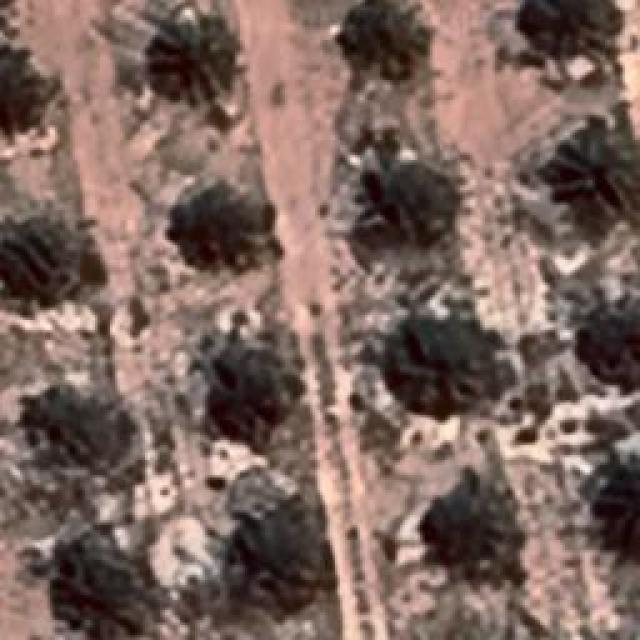PalmTree: (237, 504, 325, 612), (430, 479, 515, 589), (144, 12, 238, 106), (28, 380, 124, 472), (388, 320, 482, 408), (555, 108, 635, 202), (52, 547, 125, 640), (174, 188, 256, 266), (201, 344, 279, 424), (570, 304, 640, 392), (374, 172, 456, 245), (0, 211, 65, 299), (587, 457, 640, 552), (0, 32, 50, 130), (535, 0, 623, 45), (344, 10, 406, 68)
